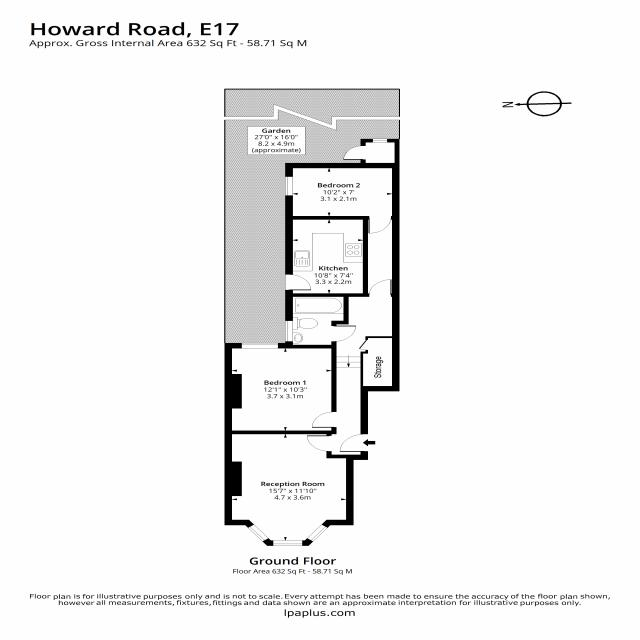DOOR: (339, 433, 369, 452), (284, 274, 312, 291), (368, 215, 392, 234), (331, 325, 357, 342), (311, 411, 337, 428), (306, 435, 332, 452), (368, 279, 392, 297), (343, 145, 366, 160)
ROOM: (224, 430, 354, 546), (224, 343, 337, 434), (285, 163, 400, 234), (285, 216, 368, 297)
WINDOW: (306, 524, 329, 542), (247, 524, 269, 542), (241, 343, 279, 349), (285, 320, 294, 342), (272, 540, 303, 546), (285, 176, 294, 196), (372, 138, 388, 143)
